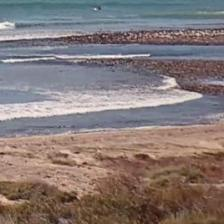surfer: (96, 6, 102, 11)
